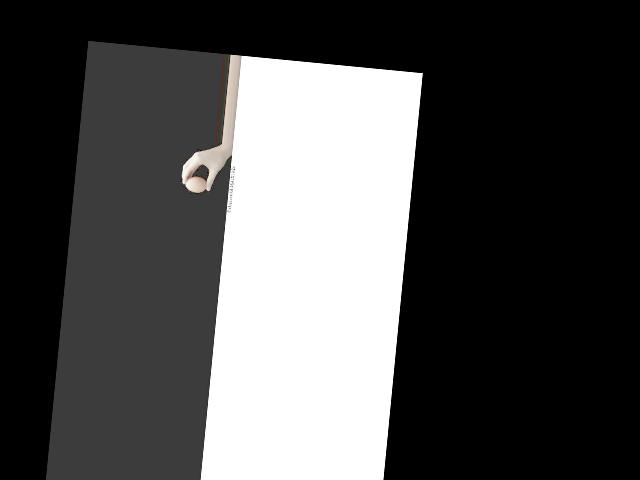egg: (184, 175, 207, 193)
